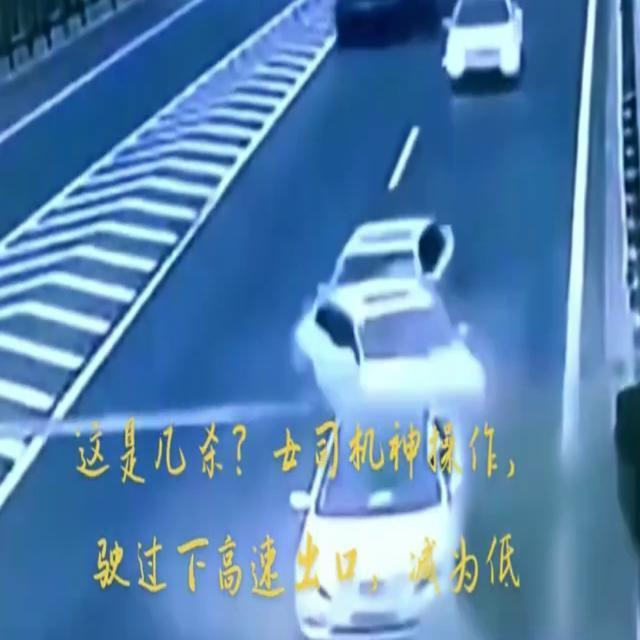accident: (290, 212, 490, 640)
